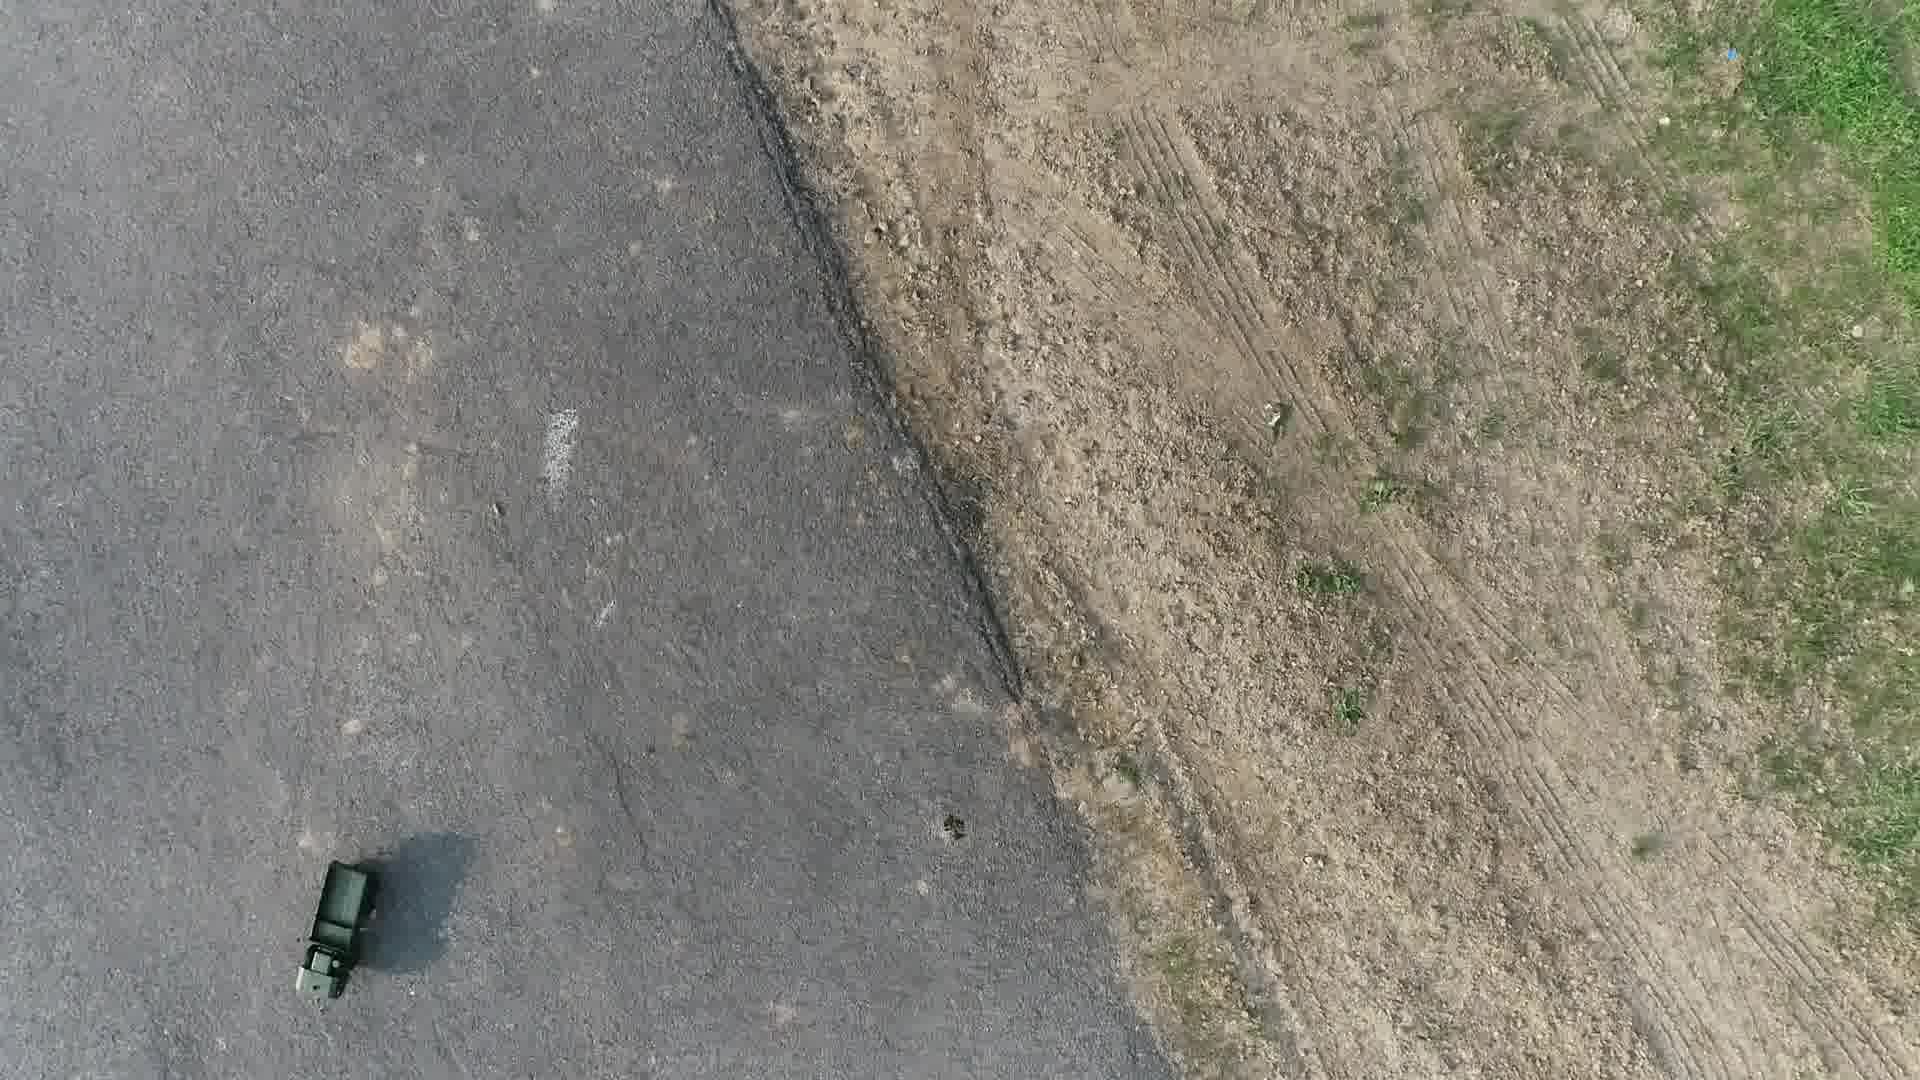transporter9: (291, 857, 380, 1002)
